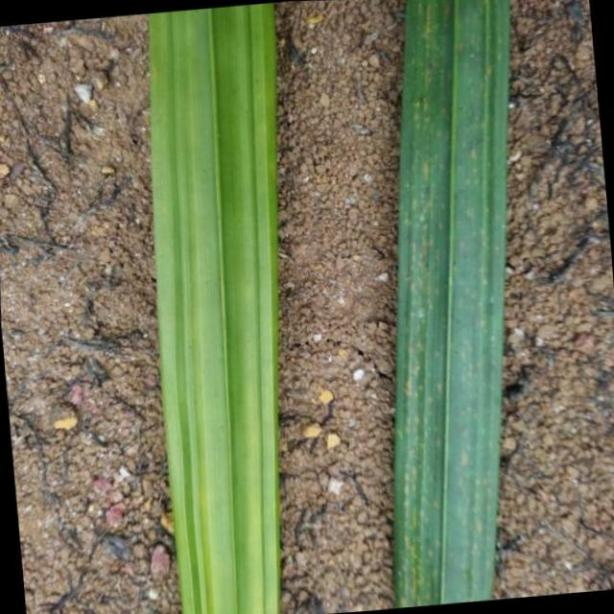nitrogen: (142, 0, 278, 614), (394, 1, 513, 614)
